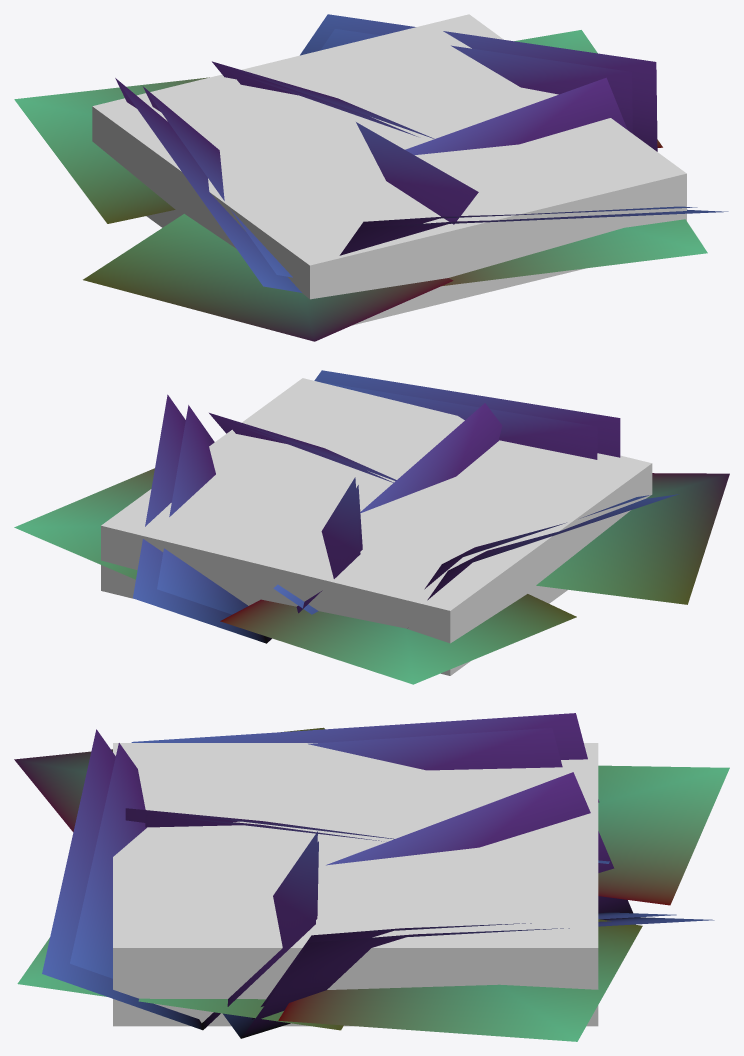
The model's file is grass_field_filler.dae.
The picture shows the model from 3 angles, top to bottom: view 1: azimuth 30°, elevation 25°; view 2: azimuth 150°, elevation 25°; view 3: azimuth 270°, elevation 25°; orthographic projection. The views are drawn at different scales.
Parts seen in each view (by area): view 1: Untitled, grass_field_large300, grass_field_large150; view 2: Untitled, grass_field_large300, grass_field_large150; view 3: Untitled, grass_field_large300, grass_field_large150.
Boxes of the visible parts, left/top/right/bottom form: Untitled: left=92, top=14, right=686, bottom=325; grass_field_large300: left=14, top=29, right=707, bottom=341; grass_field_large150: left=115, top=14, right=728, bottom=292; Untitled: left=101, top=378, right=652, bottom=675; grass_field_large300: left=14, top=383, right=729, bottom=684; grass_field_large150: left=133, top=370, right=679, bottom=643; Untitled: left=113, top=743, right=598, bottom=1026; grass_field_large300: left=14, top=727, right=729, bottom=1041; grass_field_large150: left=42, top=713, right=714, bottom=1038.
Size of the model in its own units: 4.79 by 4.35 by 0.7716.
